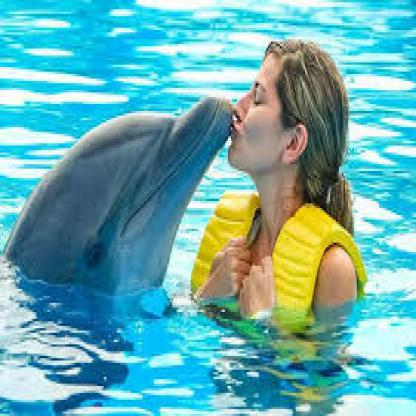dolphin: (3, 88, 234, 312)
